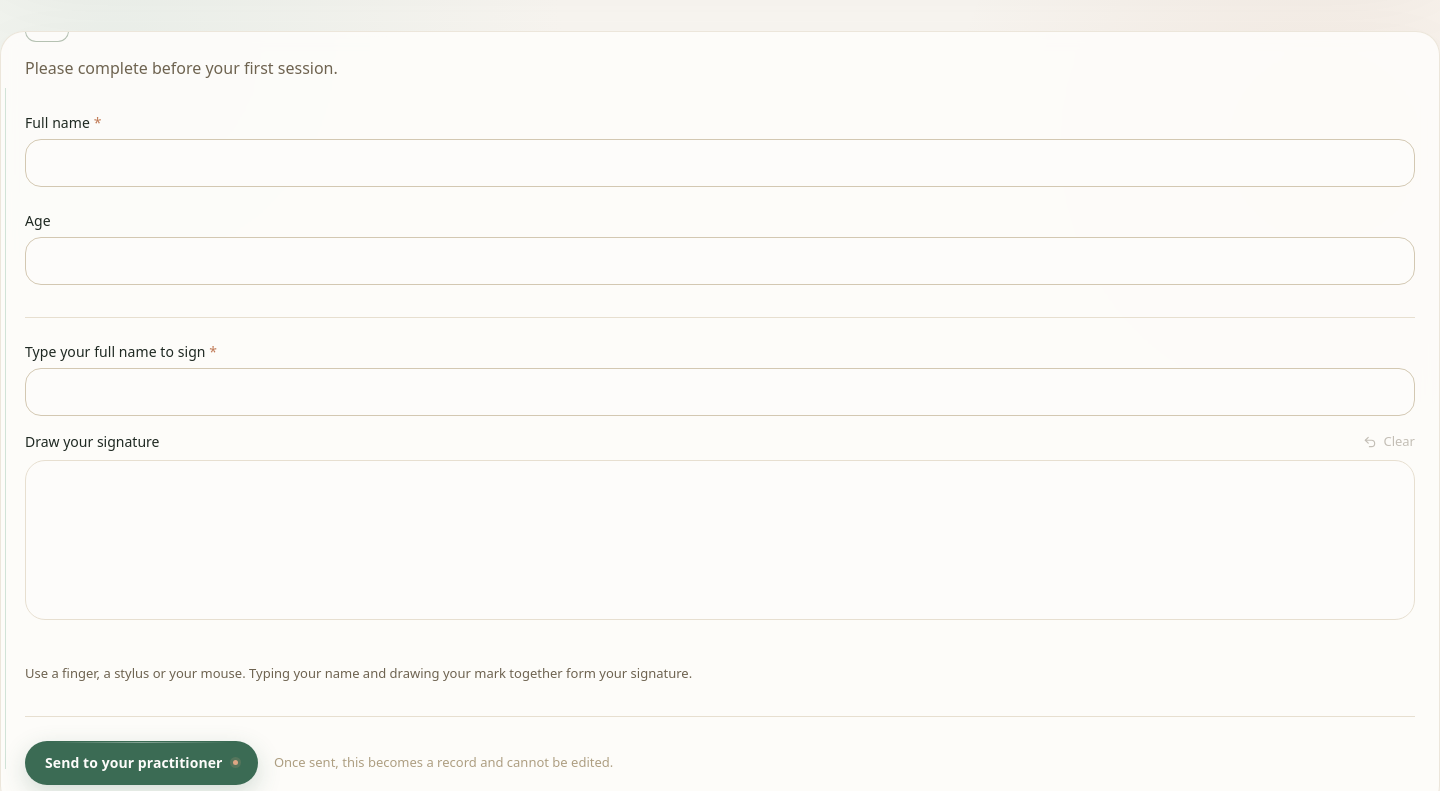
Test: FormPage › catches a blank required field before any round trip
(page scrolled)
Check: the field labelled "Full name *" is shown, box [25,139,1415,187]
Click the button "Send to your practitioner" at [141, 763], box [25,741,258,785]
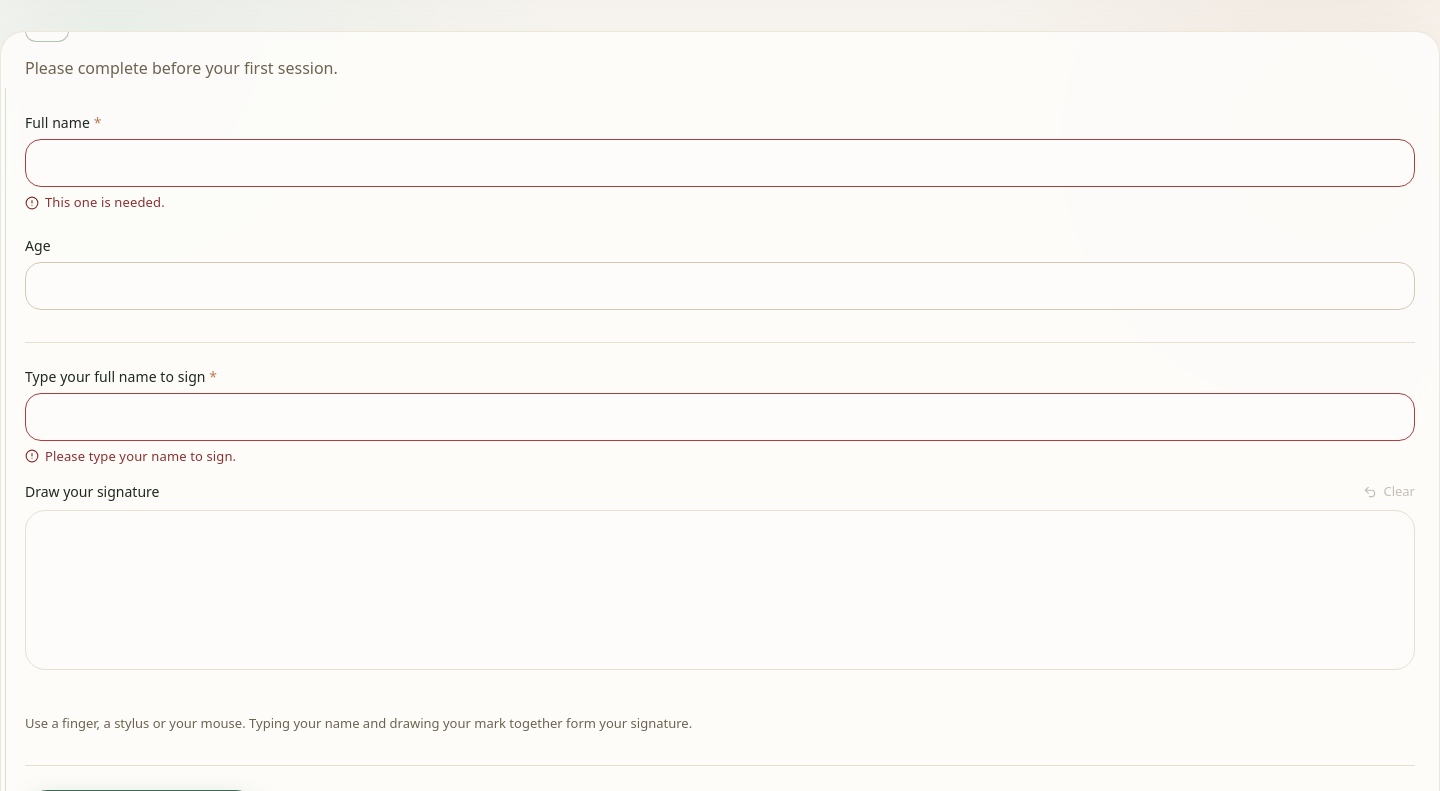
Check: the text "This one is needed." is shown, box [25,193,165,211]
